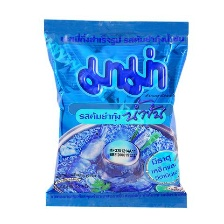snack: (37, 11, 196, 212)
